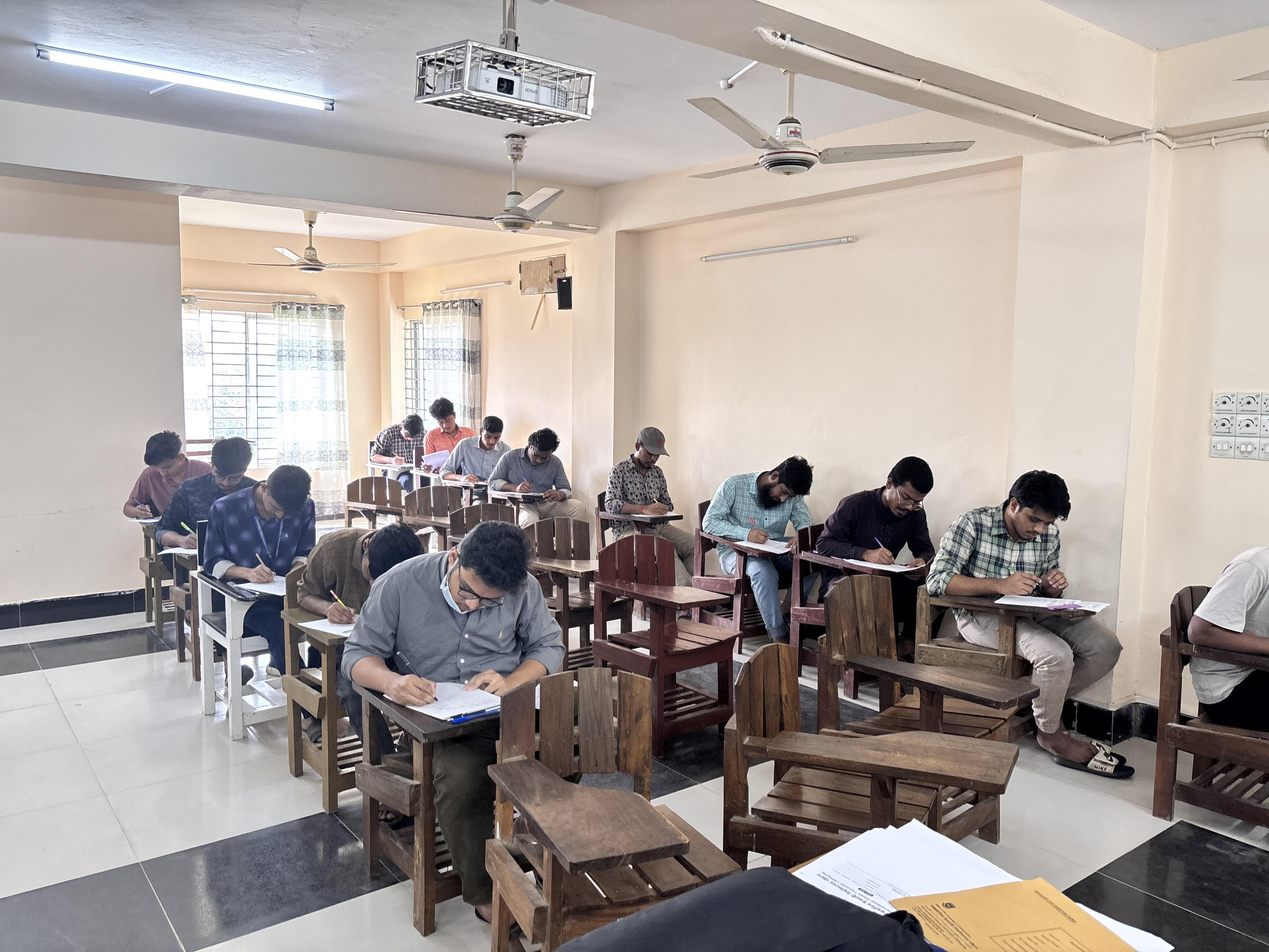no_cheating: (947, 450, 1122, 721), (398, 513, 552, 735), (713, 445, 823, 611), (832, 441, 943, 590), (595, 420, 699, 562), (217, 460, 313, 611), (504, 419, 587, 530), (120, 427, 205, 534), (184, 425, 245, 552), (453, 405, 513, 499), (368, 409, 437, 488), (425, 389, 474, 472)
